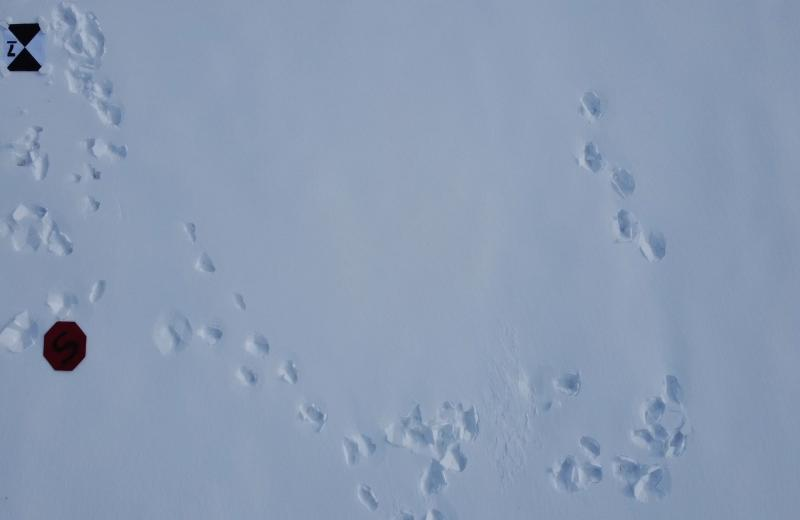Octagon: (42, 319, 89, 372)
